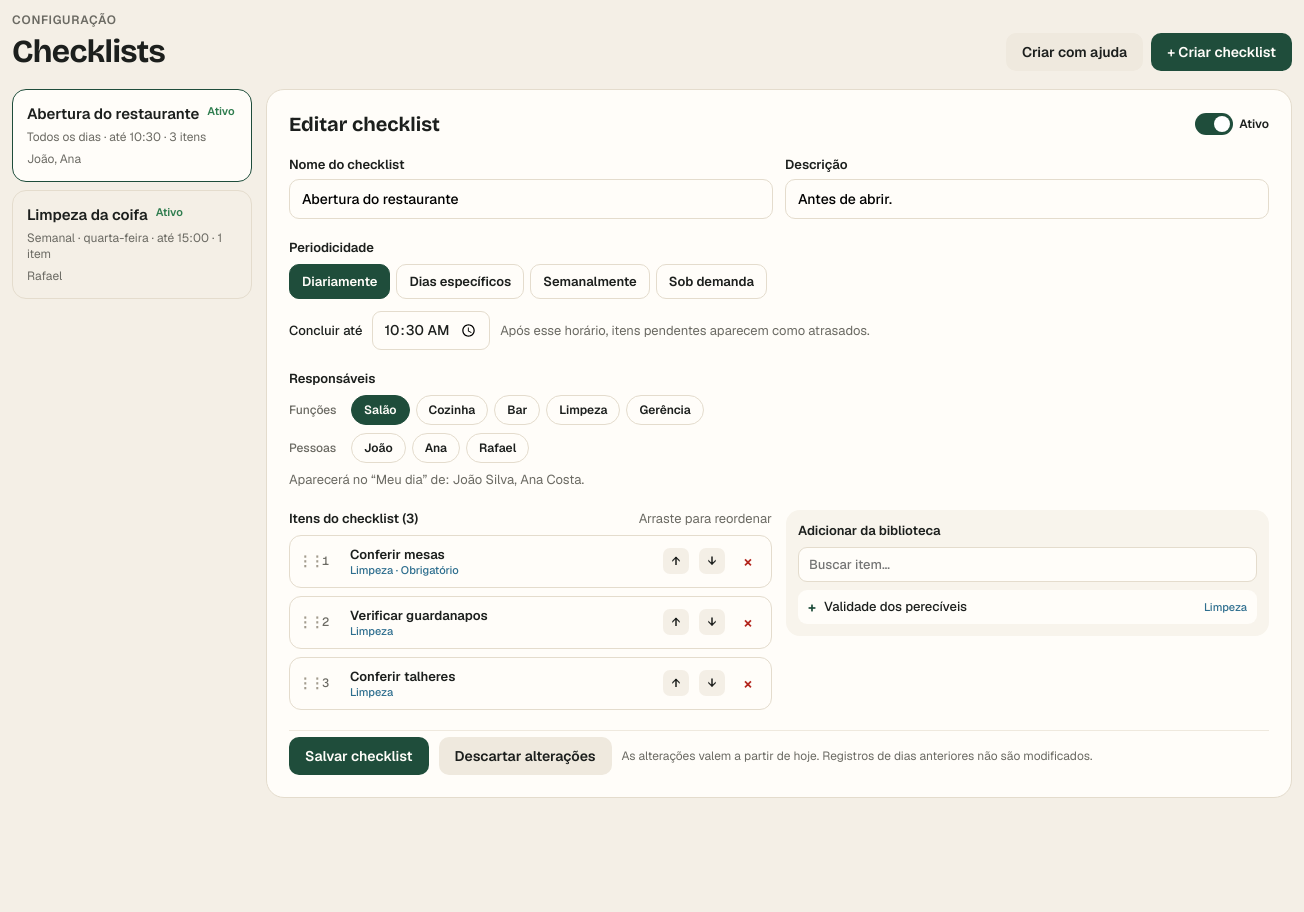
Test case: US14 — checklists (web) › sem itens mostra orientação (borda)
Expected: the heading "Editar checklist" is shown, [289,112,440,136]
Click the button named "Remover": click(748, 561) [735,548,761,574]
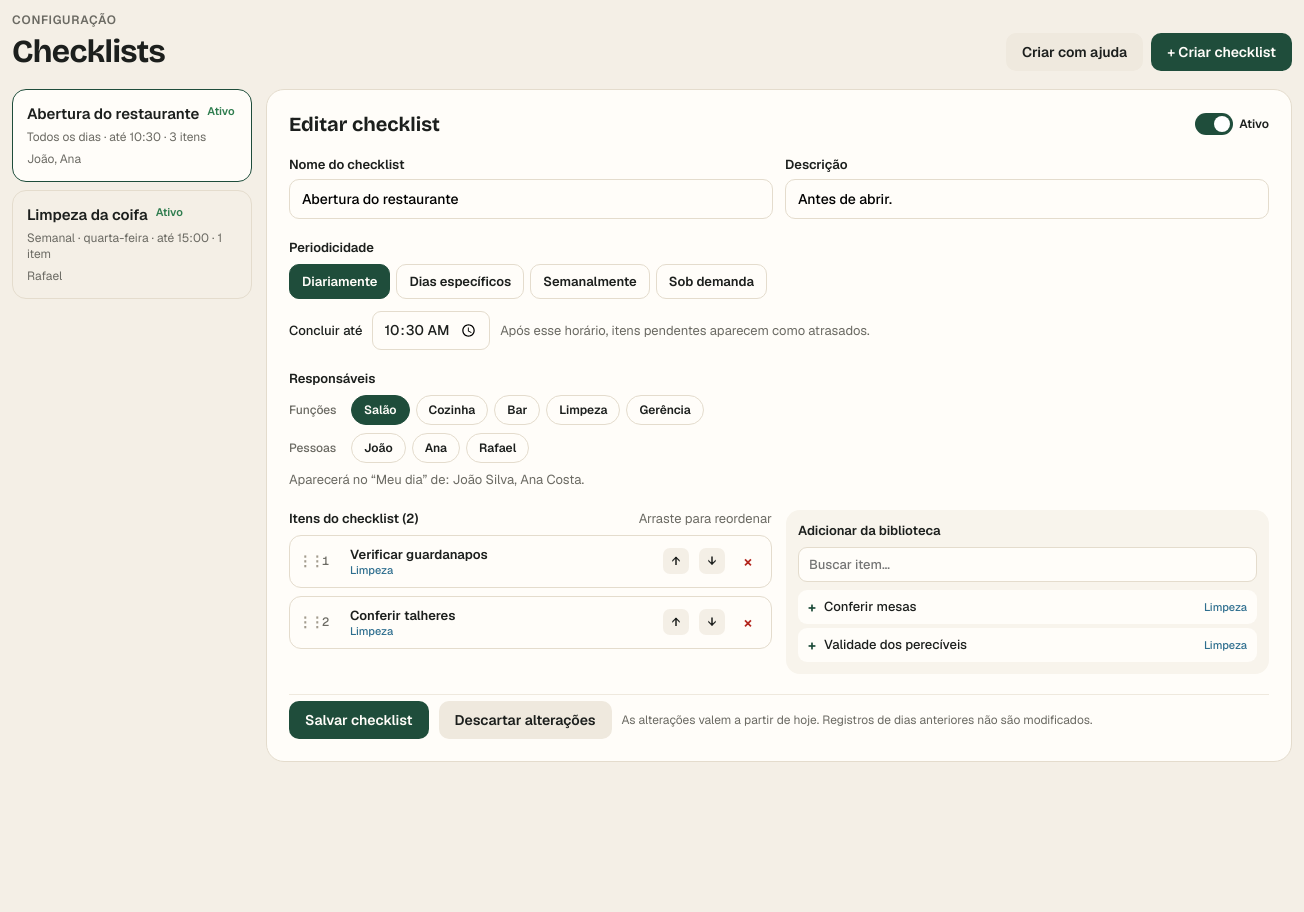
Click the button named "Remover": click(748, 561) [735,548,761,574]
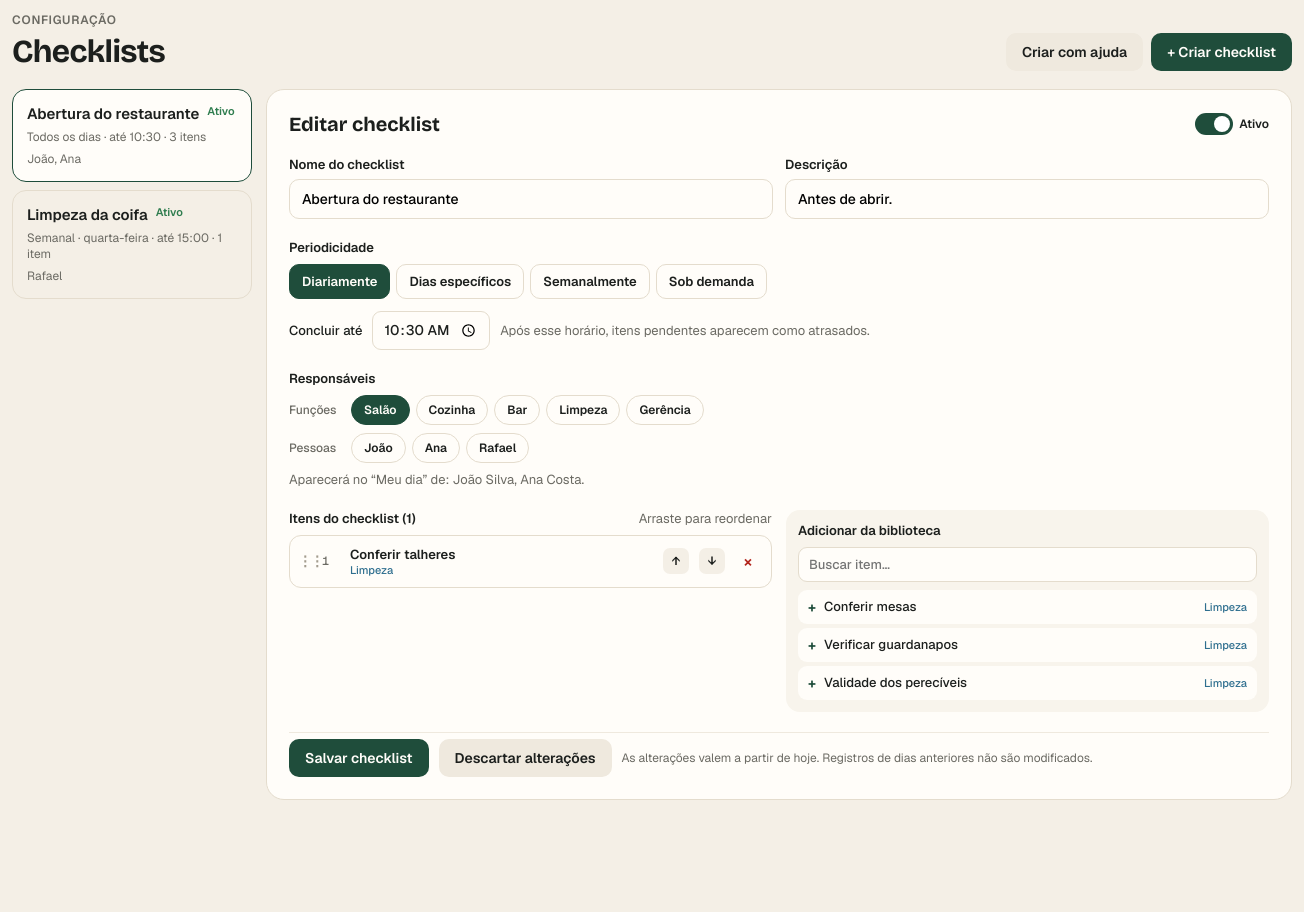
Click the button named "Remover": click(748, 561) [735,548,761,574]
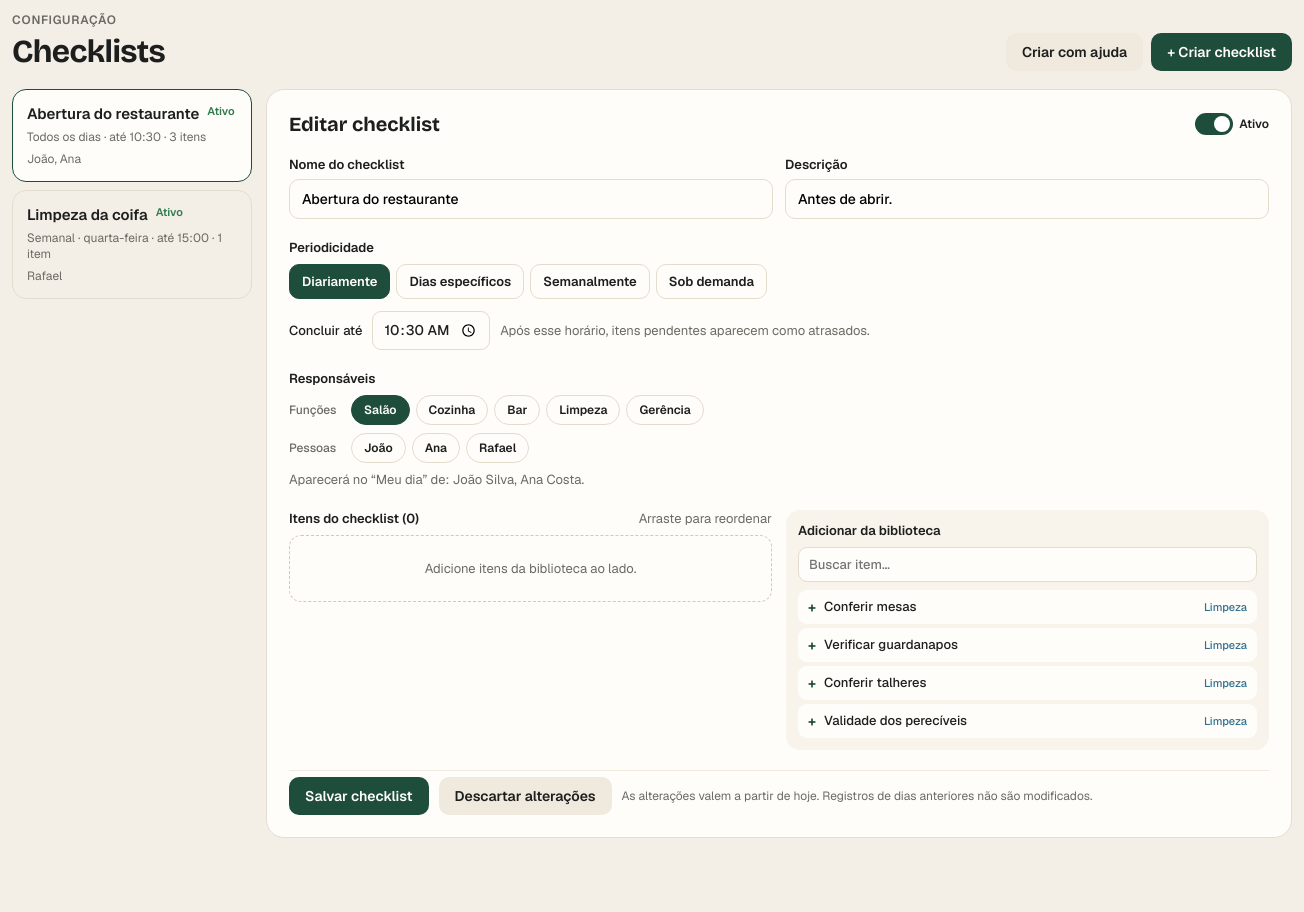
Expected: the text "Adicione itens da biblioteca ao lado." is shown, [289,534,772,602]
